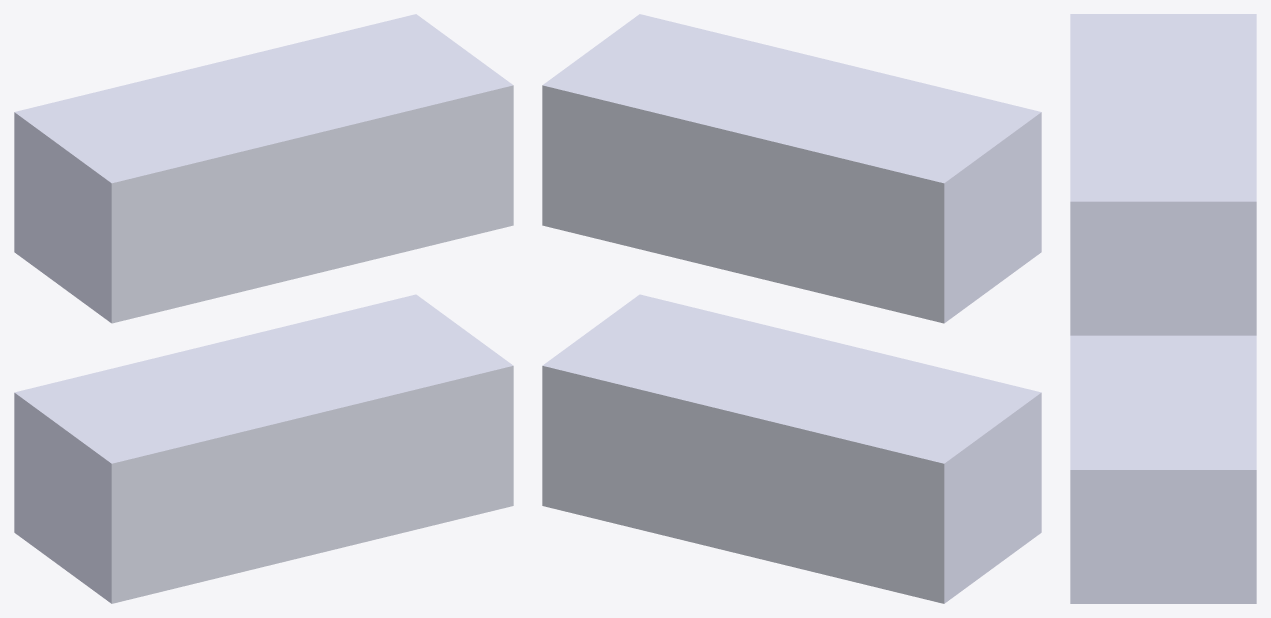
File: cef3a628-bf93-496f-a5c1-ddc6047bbef2.glb
3 renders of one model, left to right at view 1: azimuth 30°, elevation 25°; view 2: azimuth 150°, elevation 25°; view 3: azimuth 270°, elevation 25°, orthographic. The views are drawn at different scales.
Parts seen in each view (by area): view 1: =_DeltaBlock_Grey; view 2: =_DeltaBlock_Grey; view 3: =_DeltaBlock_Grey.
Part boxes in pixels (<box>): =_DeltaBlock_Grey: <box>14,14,513,603</box>; =_DeltaBlock_Grey: <box>542,14,1041,603</box>; =_DeltaBlock_Grey: <box>1070,14,1256,603</box>.
Size of what is drawn, in the model's own units: 0.1071 by 0.1071 by 0.045.
Materials: 2 (2 with a texture image).
